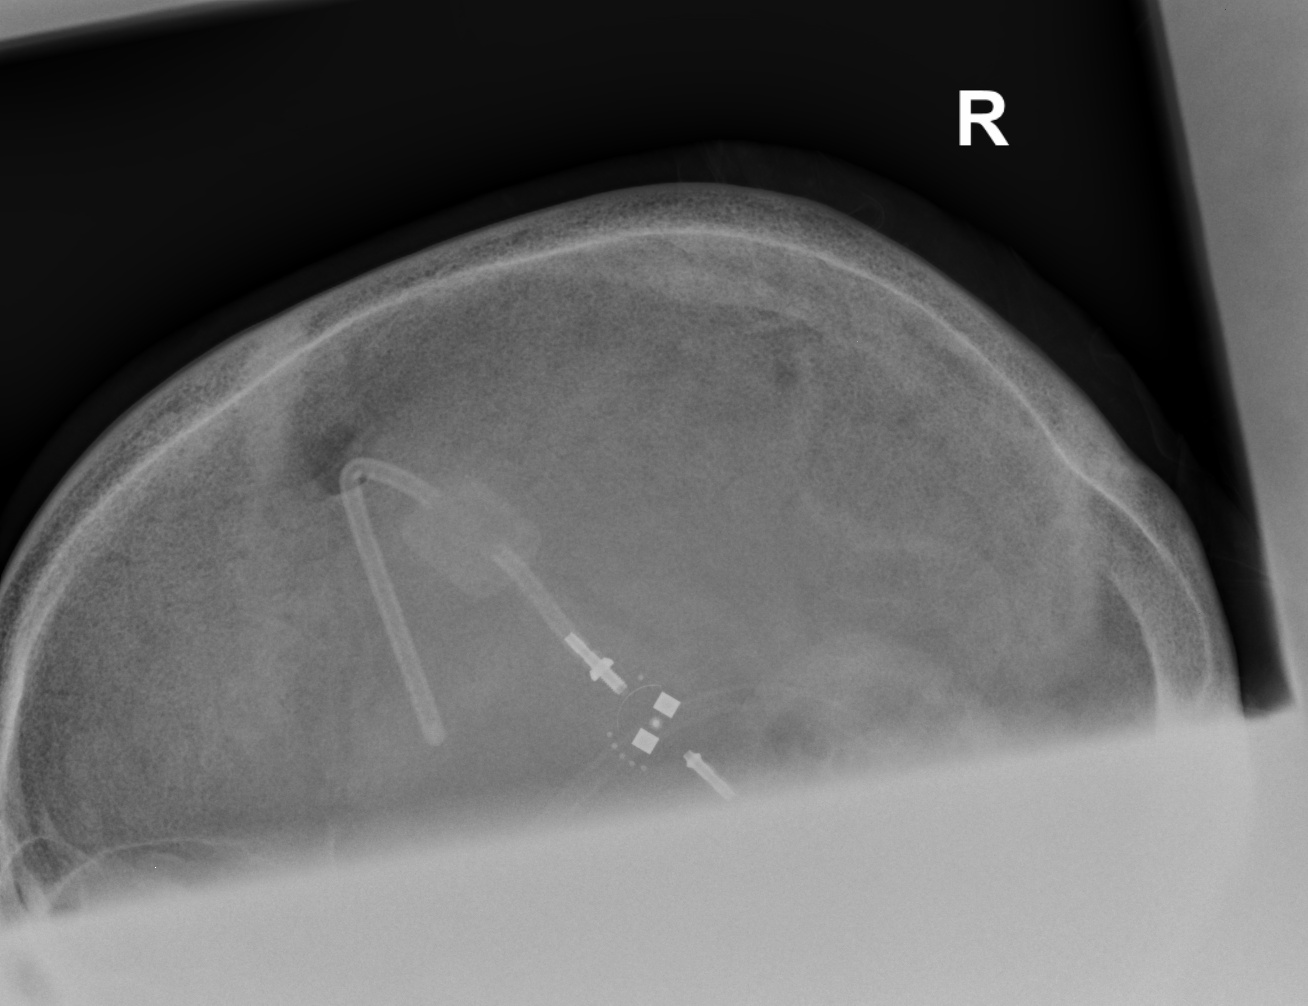Sophysa Polaris: (599, 671, 703, 778)
